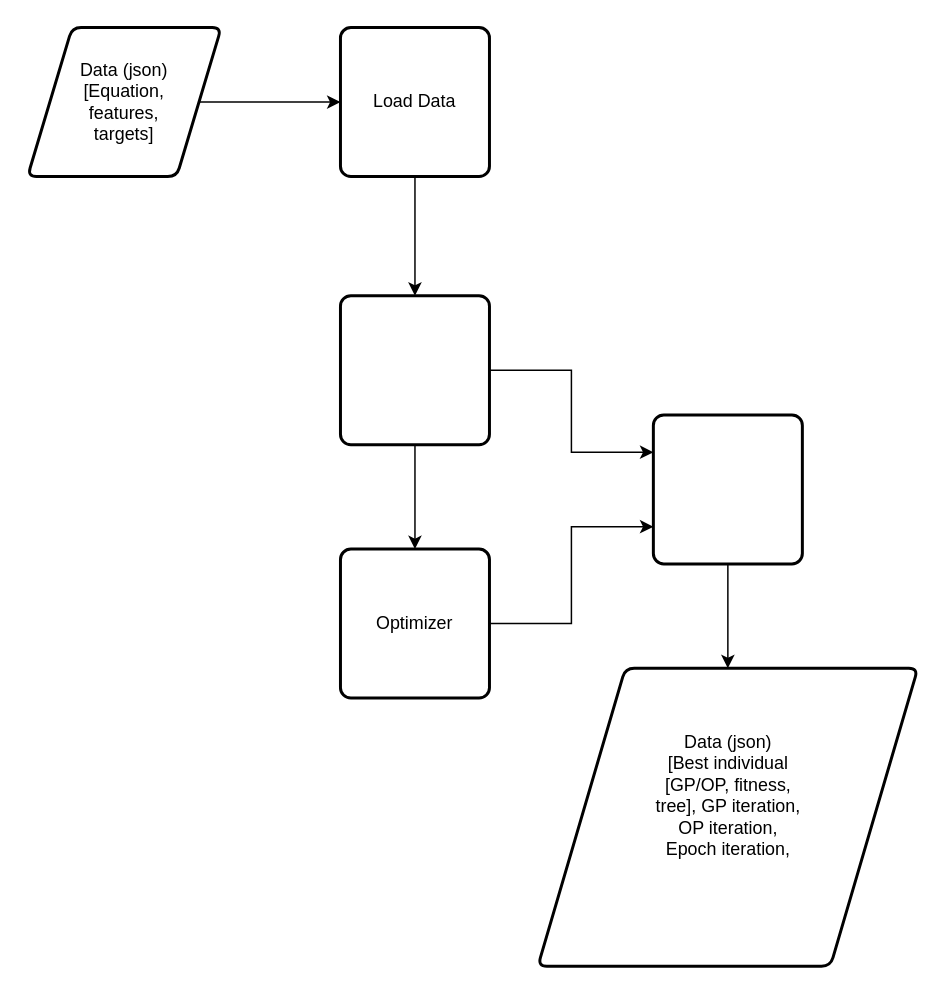
The diagram is 945 pixels wide and 992 high, and some of its shapes have lost their labels. The centre of each missing label's shape, as x and y in pixels:
Evaluation: pixel 727 489
Genetic program: pixel 414 370
